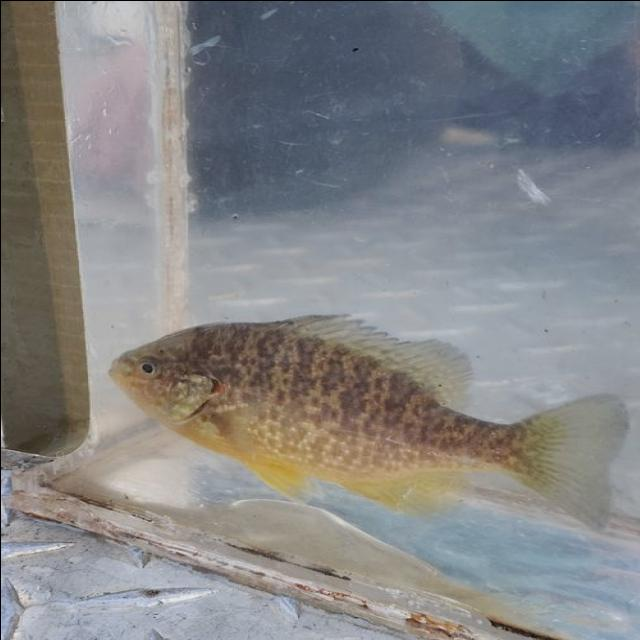Gunes Levregi: (100, 304, 630, 534)
